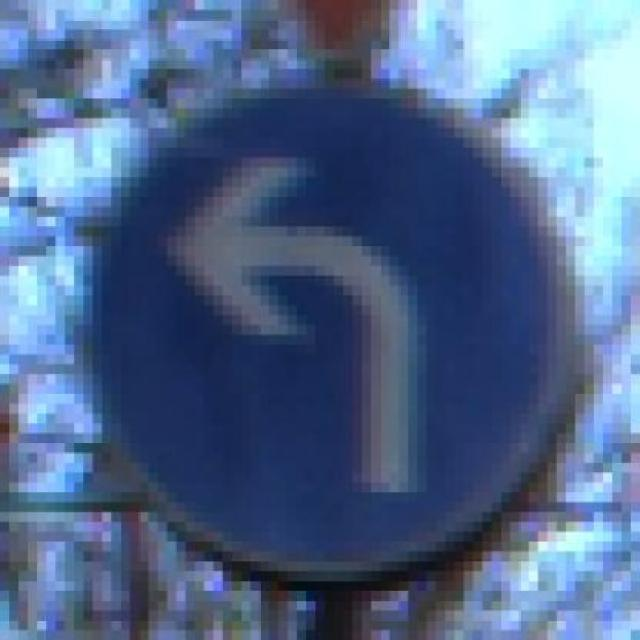Turn left ahead: (56, 68, 593, 581)
